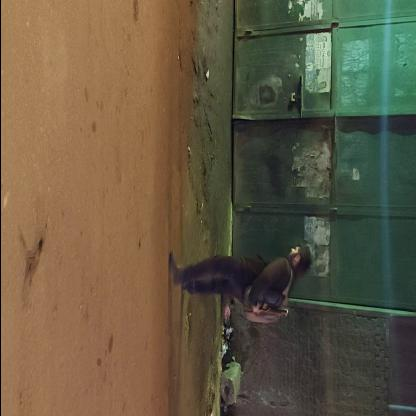long weapon: (242, 290, 292, 328)
